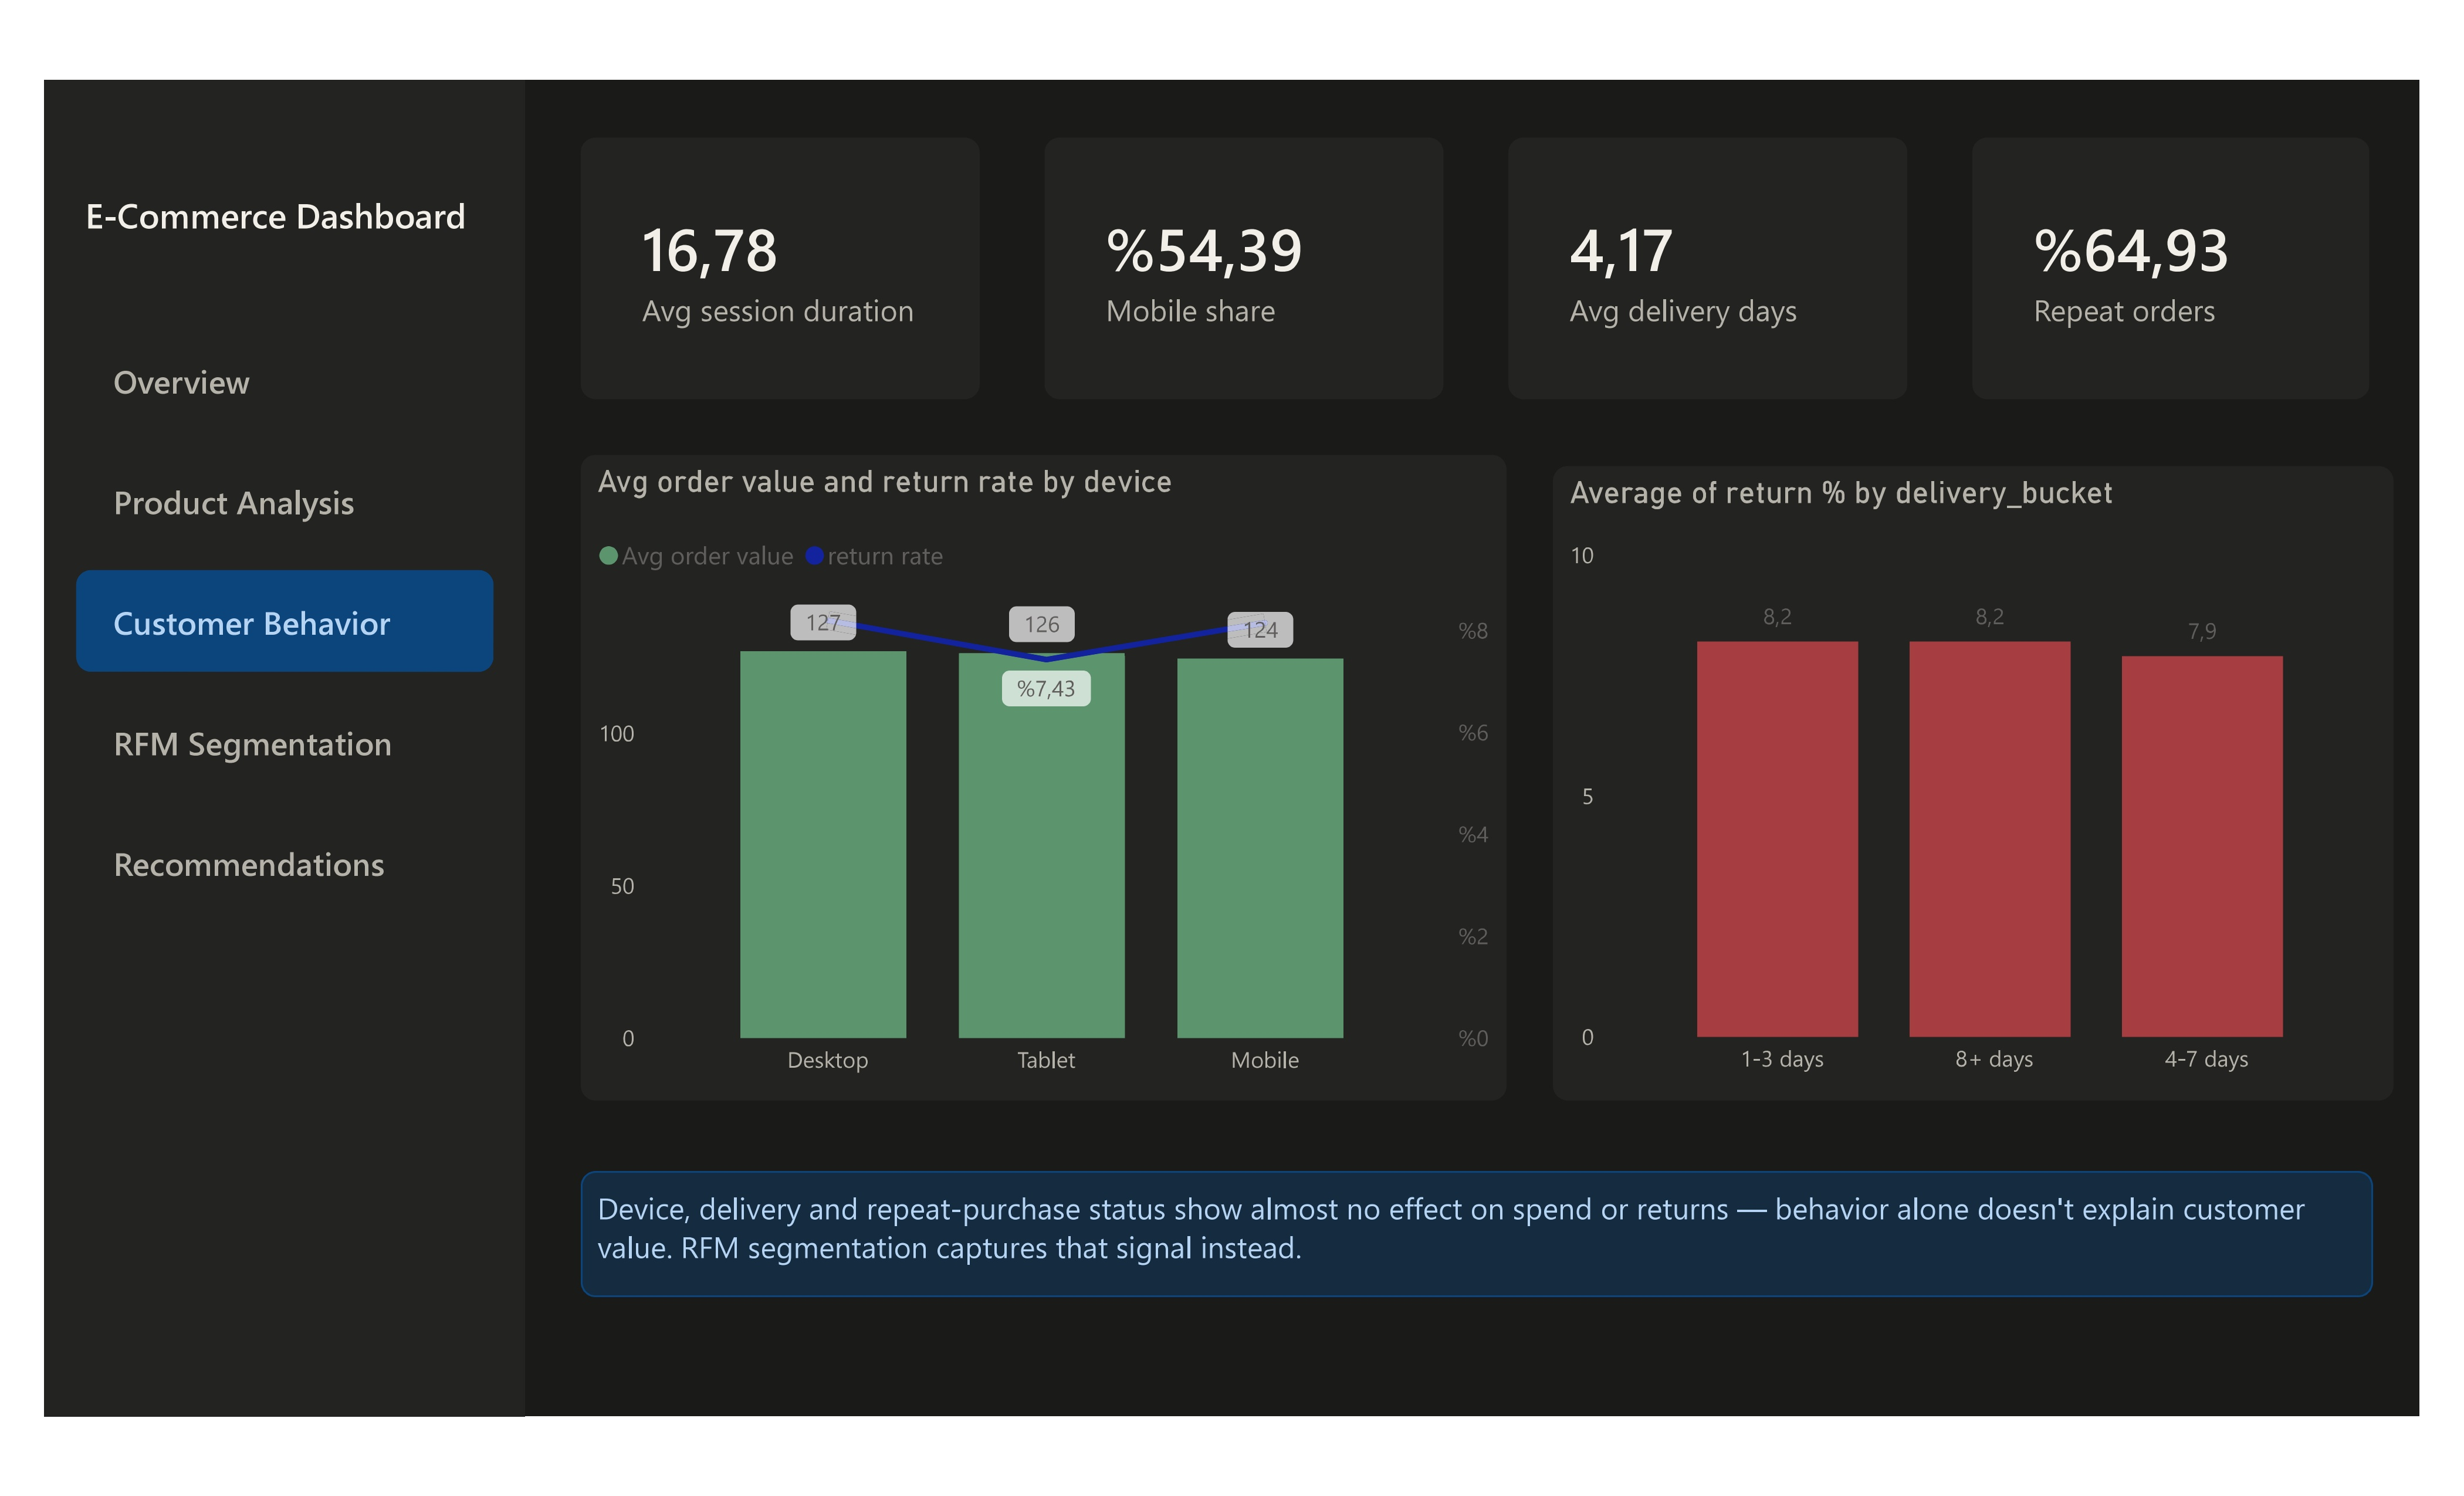

This screenshot's page, from the dashboard's own definition file:
{"tool":"powerbi","page":{"name":"Customer Behavior","canvas":[1280,720],"ordinal":2},"visuals":[{"type":"shape","box":[0,0,259.5,720.5],"z":0},{"type":"pageNavigator","box":[17.2,134.4,225.1,318.8],"z":1000},{"type":"textbox","box":[17.2,54.7,225.1,96.9],"z":2000},{"type":"textbox","box":[289.1,587.7,965.7,68],"z":3000},{"type":"cardVisual","fields":{"Data":["Avg(public orders.session_duration_minutes)"]},"box":[289.4,31,214.7,140.5],"z":4000},{"type":"cardVisual","fields":{"Data":["avgretturnrate.Mobile Percentage"]},"box":[539.1,31,214.7,140.5],"z":5000},{"type":"cardVisual","fields":{"Data":["Avg(public product_summary.avg_delivery_days)"]},"box":[788.8,31,214.7,140.5],"z":6000},{"type":"cardVisual","fields":{"Data":["avgretturnrate.Repeat Customer %"]},"box":[1038.6,31.4,214.7,140.5],"z":7000},{"type":"lineStackedColumnComboChart","fields":{"Category":["public orders.device_used"],"Y":["Avg(public orders.total_amount_usd)"],"Y2":["avgretturnrate.Return Rate"]},"box":[289.1,202.2,498.9,347.7],"z":8000},{"type":"columnChart","fields":{"Y":["Sum(Query1.return_rate_pct)"],"Category":["Query1.delivery_bucket"]},"box":[812.6,207.9,453.5,342],"z":9000}]}

Visuals, with their boxes on the page's 1280x720 design canvas (x1, y1, x2, y2). These are canvas units, not pixel positions in the 2464x1496 screenshot, which may show the page scaled, cropped or inside an application window:
shape: 0 0 260 720
pageNavigator: 17 134 242 453
textbox: 17 55 242 152
textbox: 289 588 1255 656
cardVisual - Avg(public orders.session_duration_minutes): 289 31 504 172
cardVisual - avgretturnrate.Mobile Percentage: 539 31 754 172
cardVisual - Avg(public product_summary.avg_delivery_days): 789 31 1004 172
cardVisual - avgretturnrate.Repeat Customer %: 1039 31 1253 172
lineStackedColumnComboChart - public orders.device_used x Avg(public orders.total_amount_usd): 289 202 788 550
columnChart - Sum(Query1.return_rate_pct) x Query1.delivery_bucket: 813 208 1266 550
